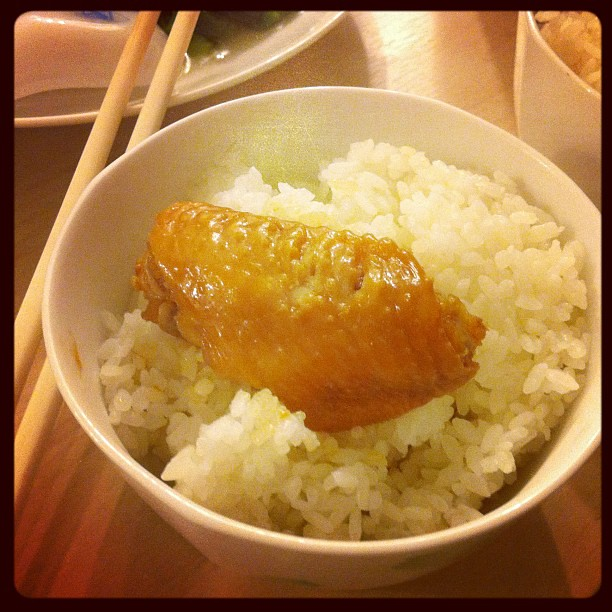chicken-wing: (133, 202, 488, 433)
